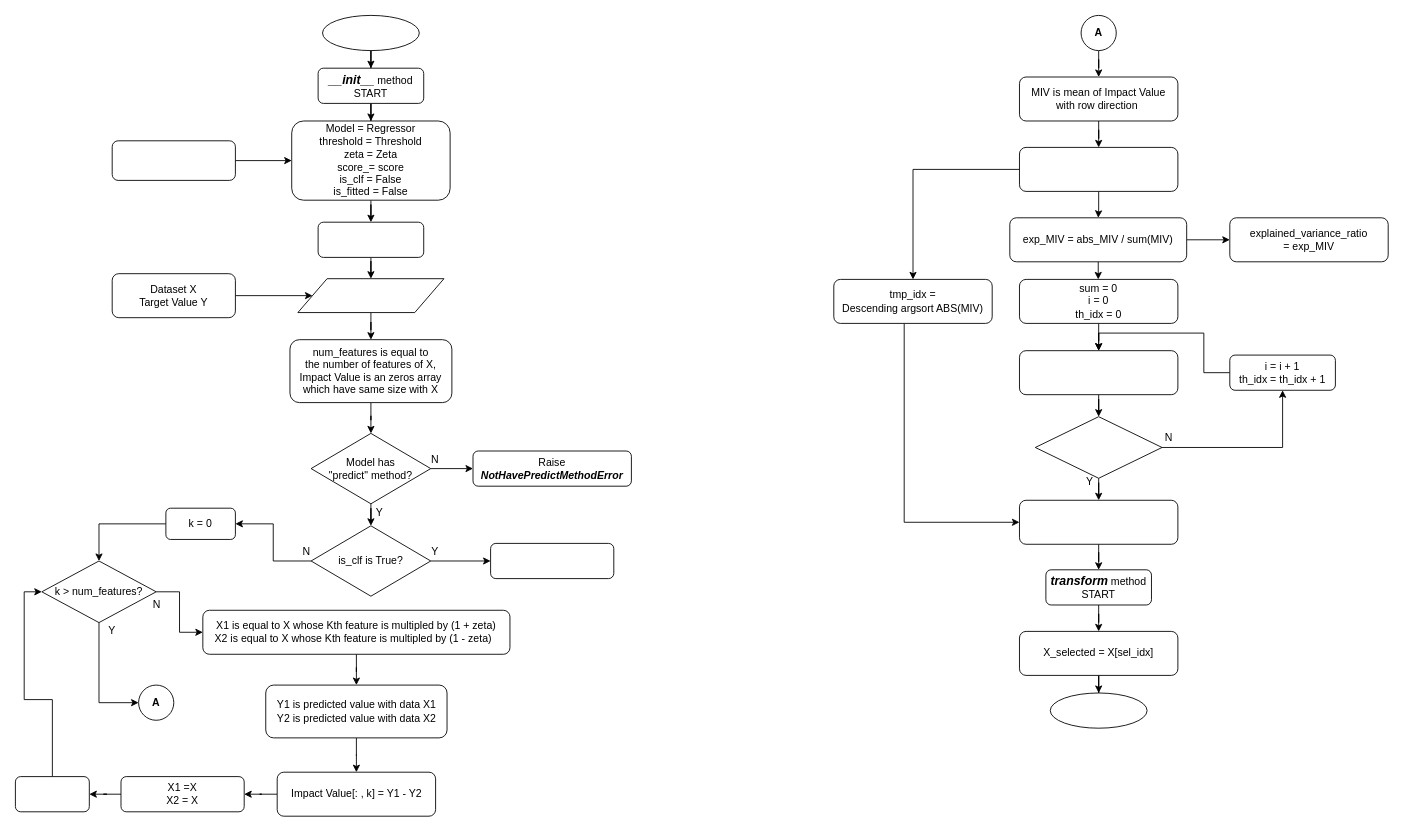
Image size: 1404x832. Some labels were removed from this diagram. Each missing label, with the centre of its shape:
"abs_MIV = Descending sort ABS(MIV)" goes at point (1098, 169).
"END" goes at point (1098, 710).
"fit method START" goes at point (370, 239).
"Get Dataset from user" goes at point (370, 295).
"Get Params from User" goes at point (173, 160).
"k = k + 1" goes at point (52, 794).
"Raise NotImplementedError" goes at point (552, 561).
"sel_idx = tmp_idx[: th_idx- 1] is_fitted = True" goes at point (1098, 521).
"START" goes at point (370, 33).
"sum = Cumulative sum from exp_MIV[0] to exp_MIV[i]" goes at point (1098, 372).
"sum > threshold?" goes at point (1098, 447).
